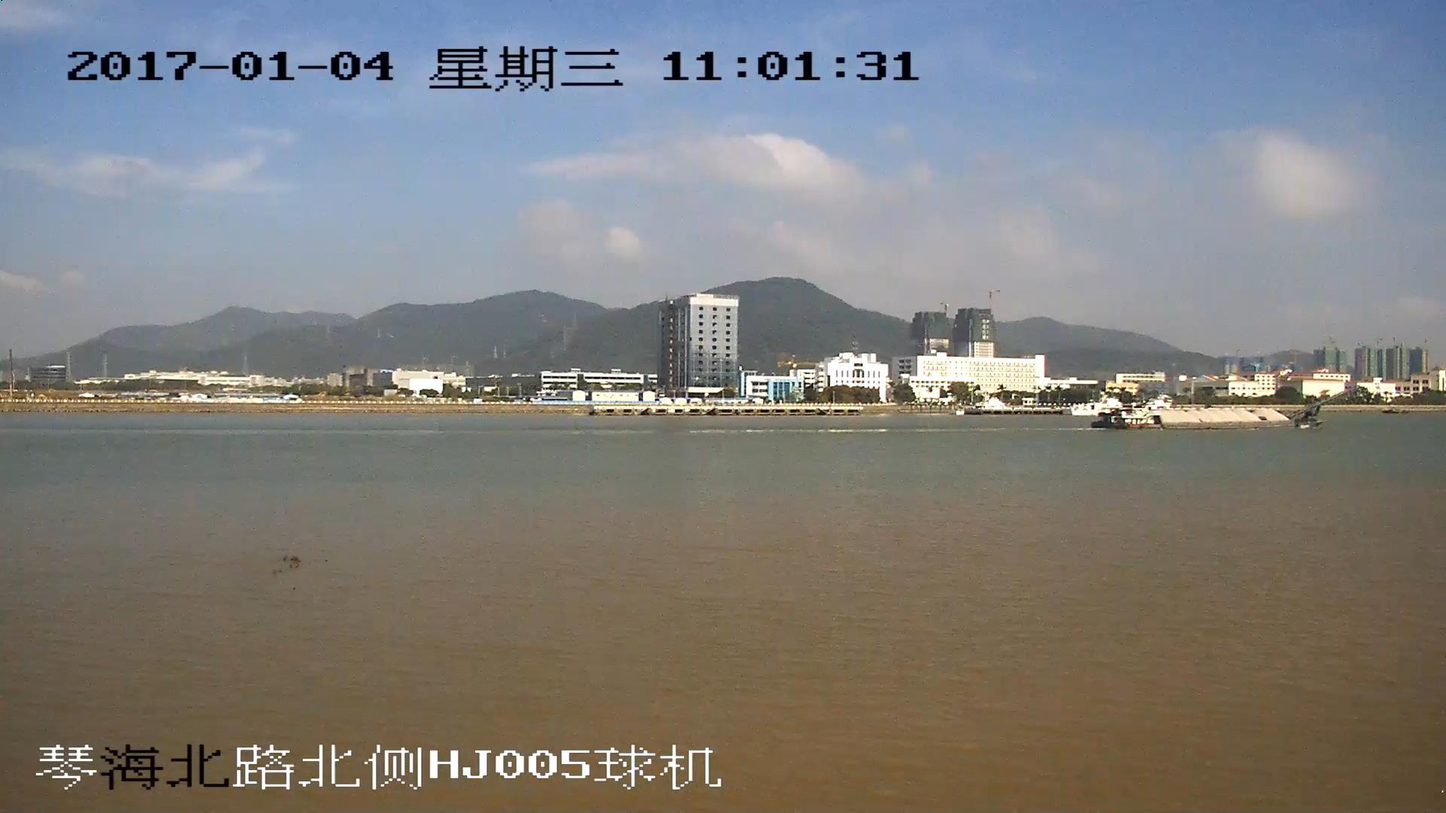ore carrier: (1091, 386, 1353, 429)
